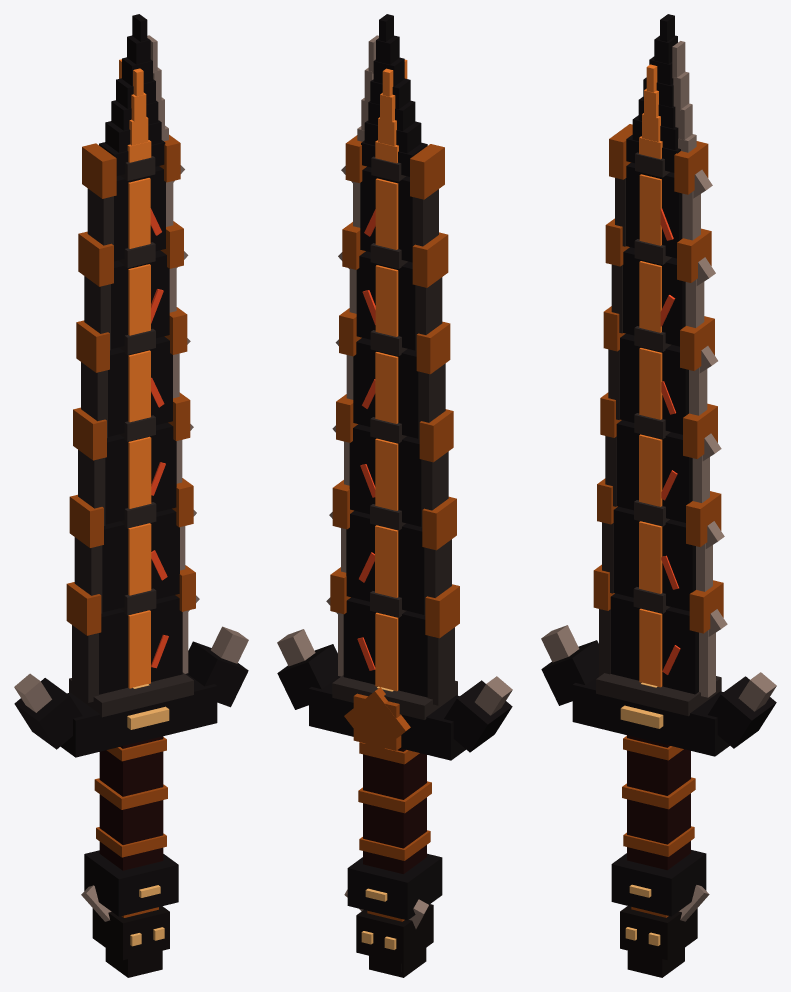
The model's file is infernochain.obj.
3 renders of one model, left to right at view 1: azimuth 30°, elevation 25°; view 2: azimuth 150°, elevation 25°; view 3: azimuth 330°, elevation 25°, orthographic.
Visible parts, largest first — view 1: grip_1, guard_12, segment_0_25, segment_1_31, pommel_5, segment_2_40, segment_3_49, drake_skull_142, segment_4_58, guard_13, segment_5_67, guard_14 (+44 smaller); view 2: grip_1, segment_0_25, segment_1_31, pommel_5, segment_2_40, guard_12, segment_3_49, drake_skull_142, segment_4_58, segment_5_67, guard_14, drive_gear_24 (+45 smaller); view 3: grip_1, guard_12, segment_0_25, segment_1_31, pommel_5, segment_2_40, segment_3_49, segment_4_58, drake_skull_142, guard_13, segment_5_67, guard_16 (+48 smaller).
Boxes of the visible parts, left/top/right/bottom form: grip_1: left=99, top=736, right=163, bottom=870; guard_12: left=60, top=673, right=217, bottom=757; segment_0_25: left=99, top=595, right=182, bottom=694; segment_1_31: left=102, top=508, right=179, bottom=612; pommel_5: left=84, top=850, right=178, bottom=916; segment_2_40: left=105, top=422, right=176, bottom=524; segment_3_49: left=108, top=336, right=172, bottom=436; drake_skull_142: left=92, top=906, right=169, bottom=960; segment_4_58: left=111, top=250, right=169, bottom=349; guard_13: left=69, top=672, right=193, bottom=717; segment_5_67: left=114, top=166, right=165, bottom=261; guard_14: left=14, top=678, right=82, bottom=749; grip_1: left=363, top=748, right=426, bottom=873; segment_0_25: left=343, top=597, right=427, bottom=697; segment_1_31: left=346, top=510, right=424, bottom=614; pommel_5: left=347, top=853, right=442, bottom=920; segment_2_40: left=349, top=424, right=421, bottom=526; guard_12: left=309, top=676, right=465, bottom=760; segment_3_49: left=353, top=337, right=418, bottom=438; drake_skull_142: left=356, top=904, right=433, bottom=963; segment_4_58: left=356, top=251, right=415, bottom=350; segment_5_67: left=360, top=166, right=412, bottom=262; guard_14: left=444, top=680, right=512, bottom=752; drive_gear_24: left=344, top=687, right=410, bottom=755; grip_1: left=627, top=735, right=690, bottom=870; guard_12: left=572, top=675, right=729, bottom=756; segment_0_25: left=610, top=593, right=698, bottom=694; segment_1_31: left=613, top=506, right=695, bottom=611; pommel_5: left=611, top=850, right=706, bottom=916; segment_2_40: left=616, top=420, right=692, bottom=522; segment_3_49: left=619, top=333, right=688, bottom=434; segment_4_58: left=623, top=247, right=685, bottom=346; drake_skull_142: left=620, top=906, right=697, bottom=960; guard_13: left=596, top=673, right=721, bottom=716; segment_5_67: left=626, top=162, right=682, bottom=258; guard_16: left=708, top=676, right=776, bottom=748.
Bounding box in the file's own units: 1.22 × 4.9 × 0.3725.
